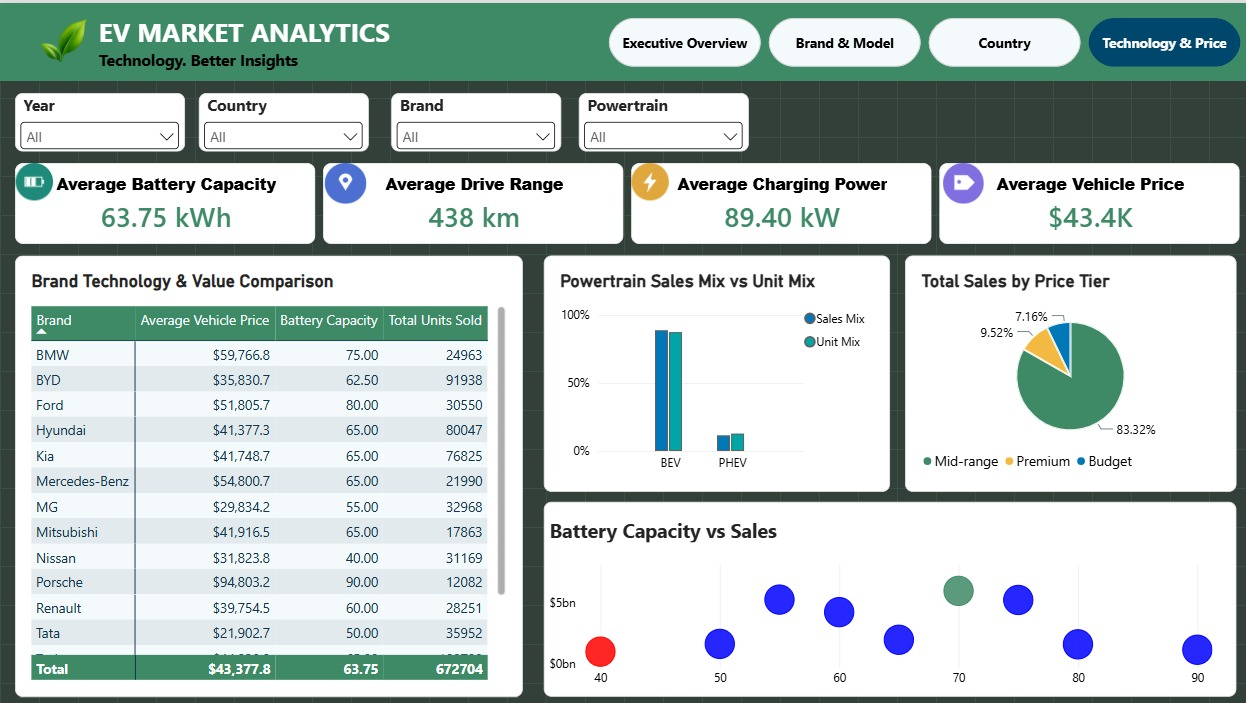

What the dashboard file says about the page in this screenshot:
{"tool":"powerbi","page":{"name":"Technology & Price","canvas":[1280,720],"ordinal":37},"visuals":[{"type":"shape","box":[0,0,1279,80],"z":0},{"type":"textbox","box":[101.2,11.1,396.3,59.3],"z":1000},{"type":"slicer","fields":{"Values":["Dim_Date.Year"]},"box":[14.8,92.6,174,59.7],"z":2000},{"type":"cardVisual","fields":{"Data":["Calculation_Table.Average_Battery_Capacity","Calculation_Table.Average Drive Range","Calculation_Table.Average Charging Power","Calculation_Table.Average Vehicle Price"]},"box":[14.8,164.2,1259.3,84],"z":3000},{"type":"clusteredColumnChart","title":"Powertrain Sales Mix vs Unit Mix","fields":{"Category":["Dim_Vehicle.Powertrain"],"Y":["Calculation_Table.Sales Mix","Calculation_Table.Unit Mix"]},"box":[557.7,259,355.1,242.3],"z":4000},{"type":"scatterChart","title":"Battery Capacity vs Sales","fields":{"X":["Dim_Battery.Battery_Capacity_kWh"],"Y":["Calculation_Table.Total_Sales"]},"box":[557.7,511.5,710.3,200],"z":5000},{"type":"pieChart","title":"Total Sales by Price Tier","fields":{"Category":["Fact_EV_Market.Price_Tier"],"Y":["Calculation_Table.Total Sales"]},"box":[928.2,259,339.7,242.3],"z":6000},{"type":"pivotTable","title":"Brand Technology & Value Comparison","fields":{"Rows":["Dim_Vehicle.Brand"],"Values":["Calculation_Table.Average Vehicle Price","_Measures.Average Battery Capacity 1","Calculation_Table.Total Units Sold"]},"box":[15.4,259,520.5,452.6],"z":7000},{"type":"slicer","fields":{"Values":["Dim_Location.Country"]},"box":[203.7,92.6,174,59.7],"z":8000},{"type":"slicer","fields":{"Values":["Dim_Vehicle.Brand"]},"box":[401.2,92.6,174,59.7],"z":9000},{"type":"slicer","fields":{"Values":["Dim_Vehicle.Powertrain"]},"box":[593.8,92.6,174,59.7],"z":10000},{"type":"image","box":[15.4,11.5,202.6,111.5],"z":11000},{"type":"image","box":[0,164.2,70.4,38.3],"z":12000},{"type":"image","box":[330.9,164.2,46.9,42],"z":13000},{"type":"image","box":[624.7,164.2,85.2,38.3],"z":14000},{"type":"image","box":[944.4,164.2,86.4,42],"z":15000},{"type":"pageNavigator","box":[624.7,15.9,649.2,50.5],"z":16000}]}

Visuals, with their boxes in screenshot pixels (x1, y1, x2, y2), scaled from the page's 1280x720 canvas onto the 1246x703 screenshot:
shape: crop(0, 0, 1245, 78)
textbox: crop(99, 11, 484, 69)
slicer - Dim_Date.Year: crop(14, 90, 184, 149)
cardVisual - Calculation_Table.Average_Battery_Capacity x Calculation_Table.Average Drive Range: crop(14, 160, 1240, 242)
"Powertrain Sales Mix vs Unit Mix" clusteredColumnChart: crop(543, 253, 889, 489)
"Battery Capacity vs Sales" scatterChart: crop(543, 499, 1234, 695)
"Total Sales by Price Tier" pieChart: crop(904, 253, 1234, 489)
"Brand Technology & Value Comparison" pivotTable: crop(15, 253, 522, 695)
slicer - Dim_Location.Country: crop(198, 90, 368, 149)
slicer - Dim_Vehicle.Brand: crop(391, 90, 560, 149)
slicer - Dim_Vehicle.Powertrain: crop(578, 90, 747, 149)
image: crop(15, 11, 212, 120)
image: crop(0, 160, 69, 198)
image: crop(322, 160, 368, 201)
image: crop(608, 160, 691, 198)
image: crop(919, 160, 1003, 201)
pageNavigator: crop(608, 16, 1240, 65)
